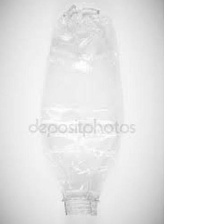bottle: (33, 1, 132, 221)
